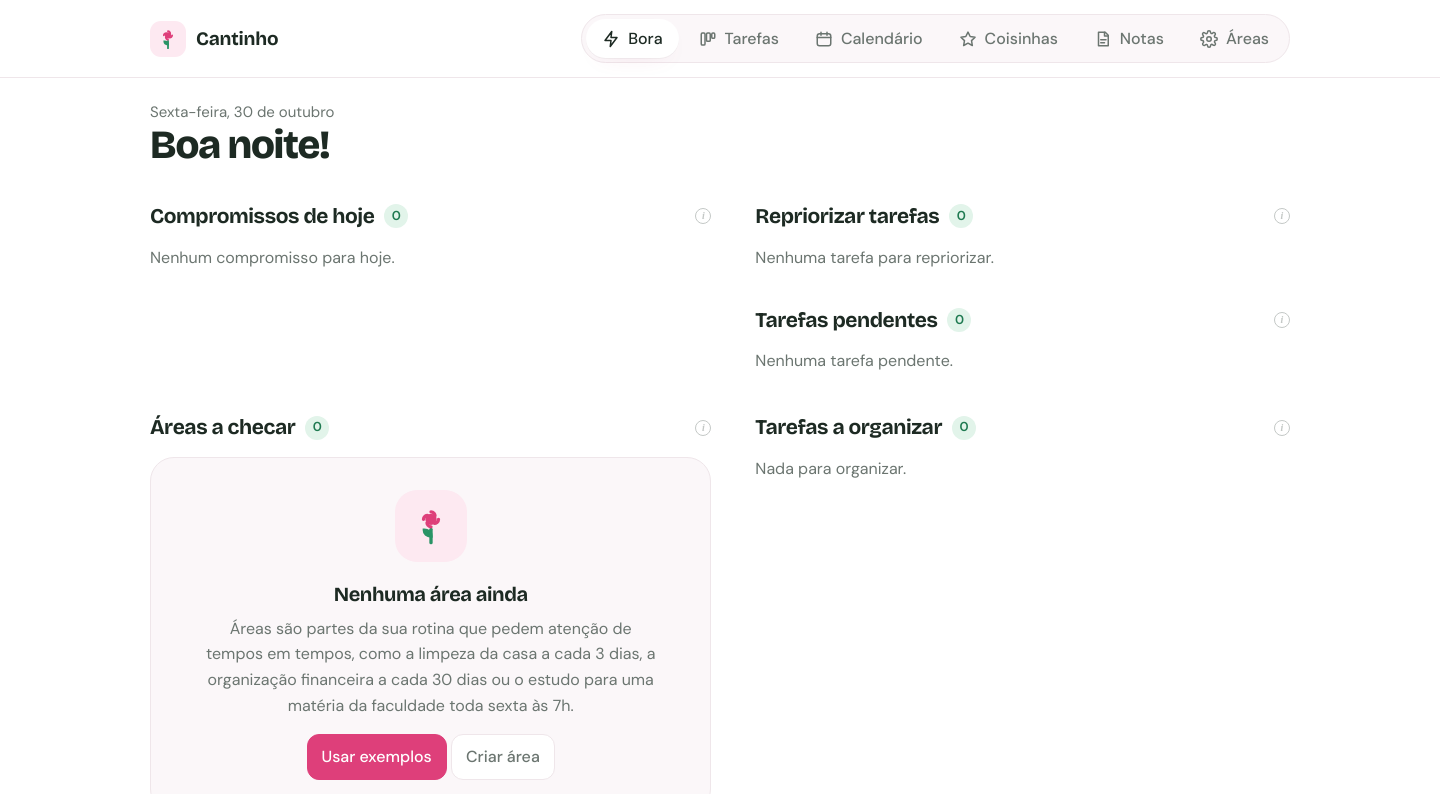
Test: Calendário › cria compromisso, valida campos e mostra na lista do dia
The width and height of the screenshot is (1440, 794).
Click the tab "Calendário": (869, 39) top-left (799, 19), bottom-right (939, 58)
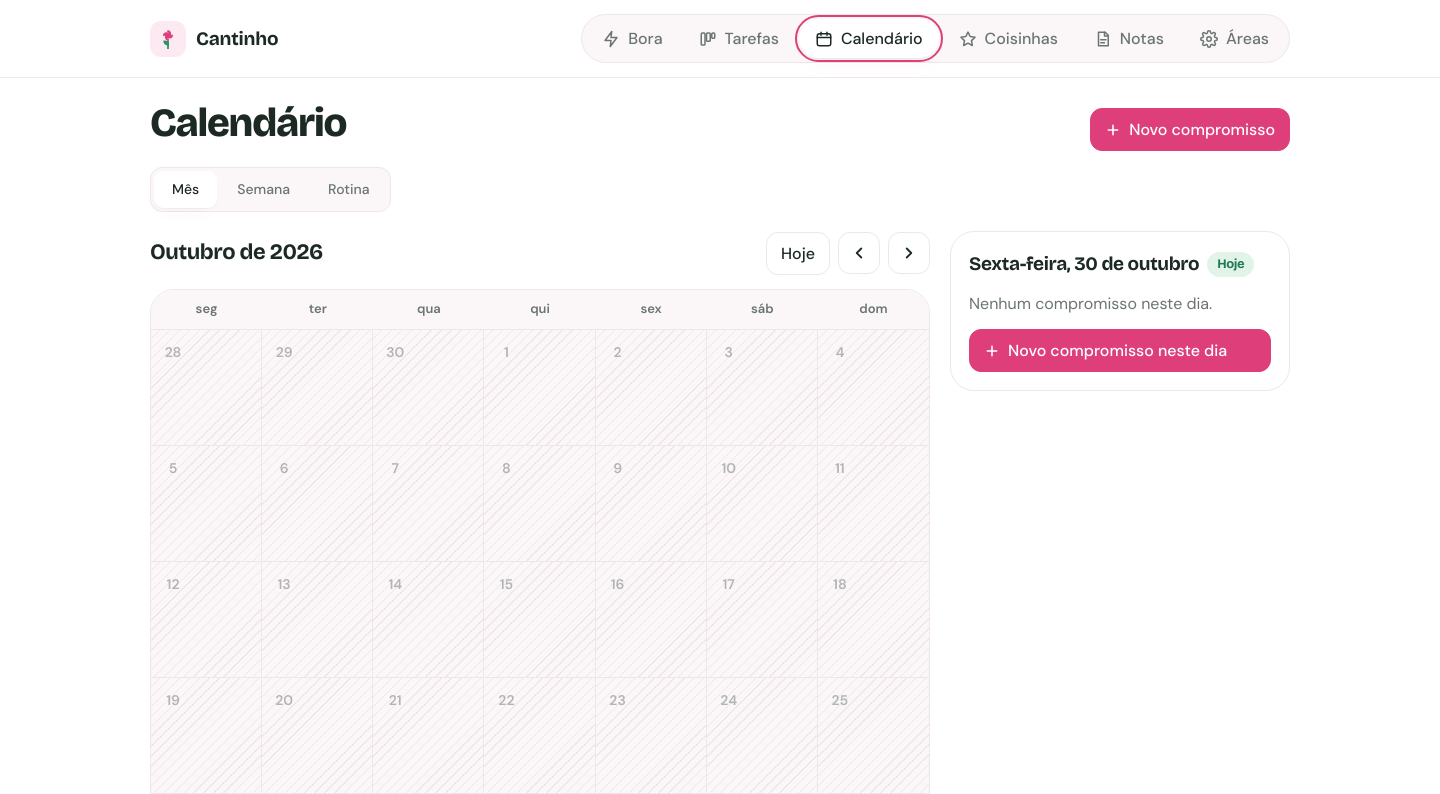
Expected: the text "Nenhum compromisso neste dia." is shown, top-left (969, 293), bottom-right (1212, 314)
Click the button "Novo compromisso": (1190, 130) top-left (1090, 108), bottom-right (1290, 151)
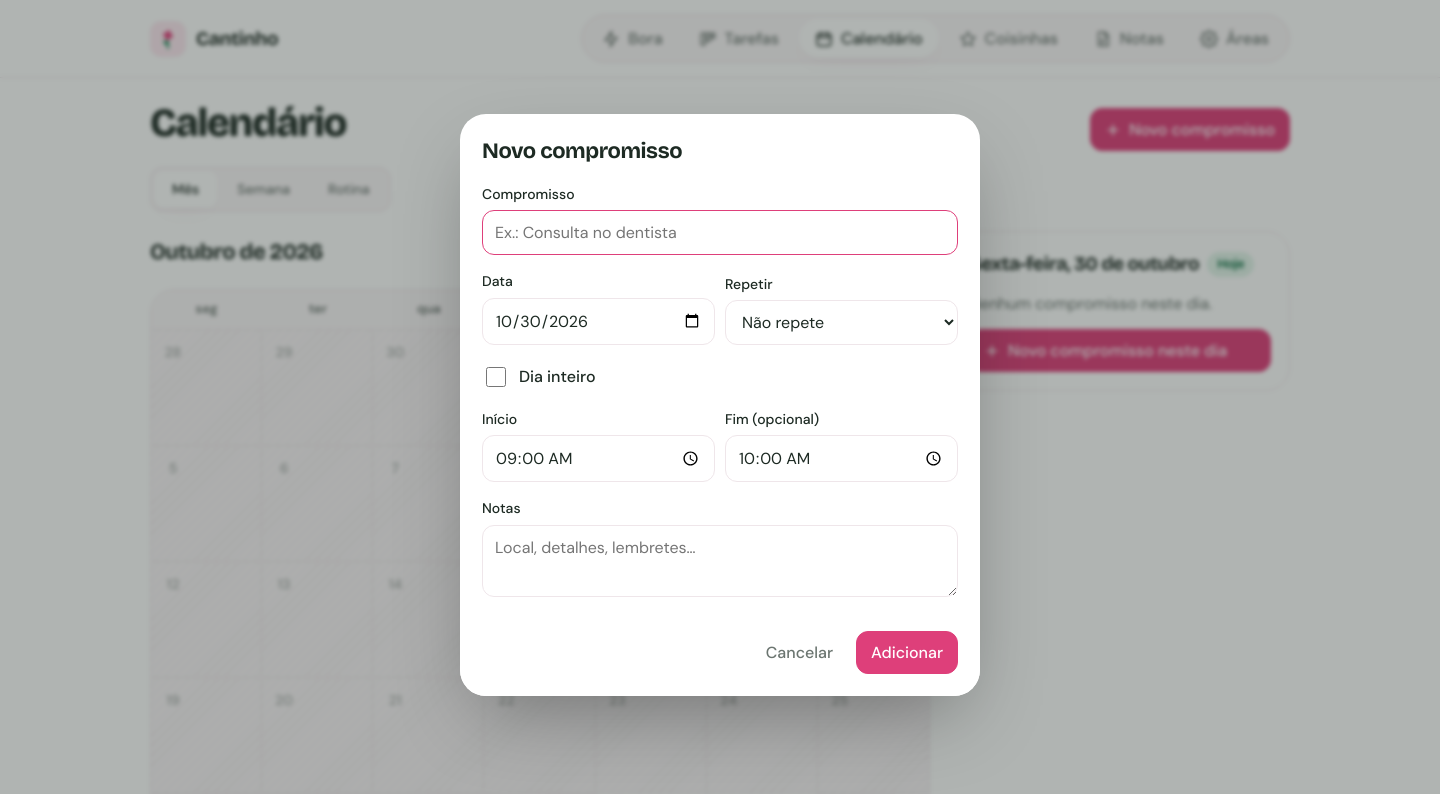
Click the button "Adicionar": (907, 652) top-left (856, 631), bottom-right (958, 674)
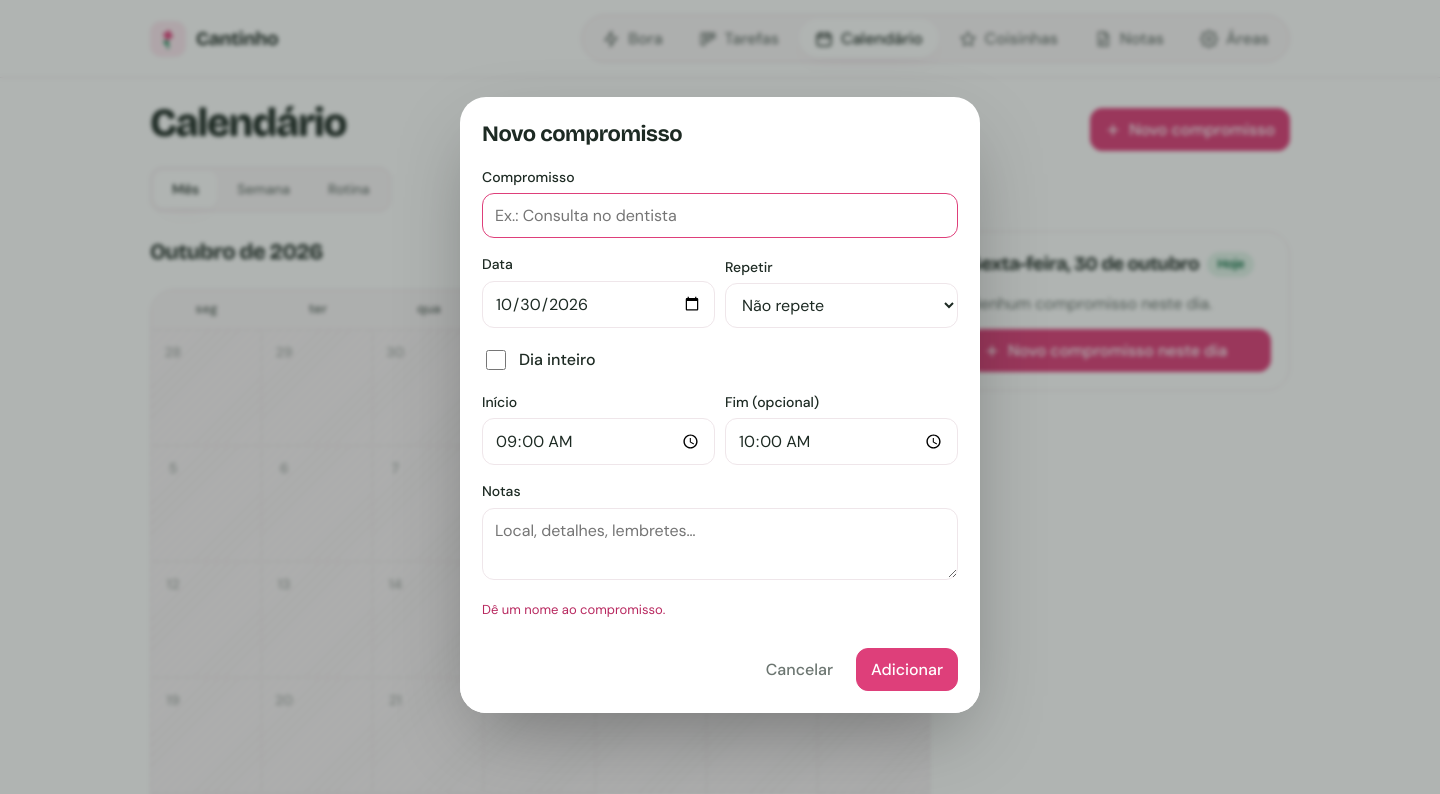
Expected: the text "Dê um nome ao compromisso." is shown, top-left (482, 601), bottom-right (665, 618)
In the field labelled "Compromisso": (720, 215) top-left (482, 193), bottom-right (958, 238), type "Reunião"
Replace the text in the time field labelled "Fim (opcional)" with "08:00": (842, 441) top-left (725, 418), bottom-right (958, 465)
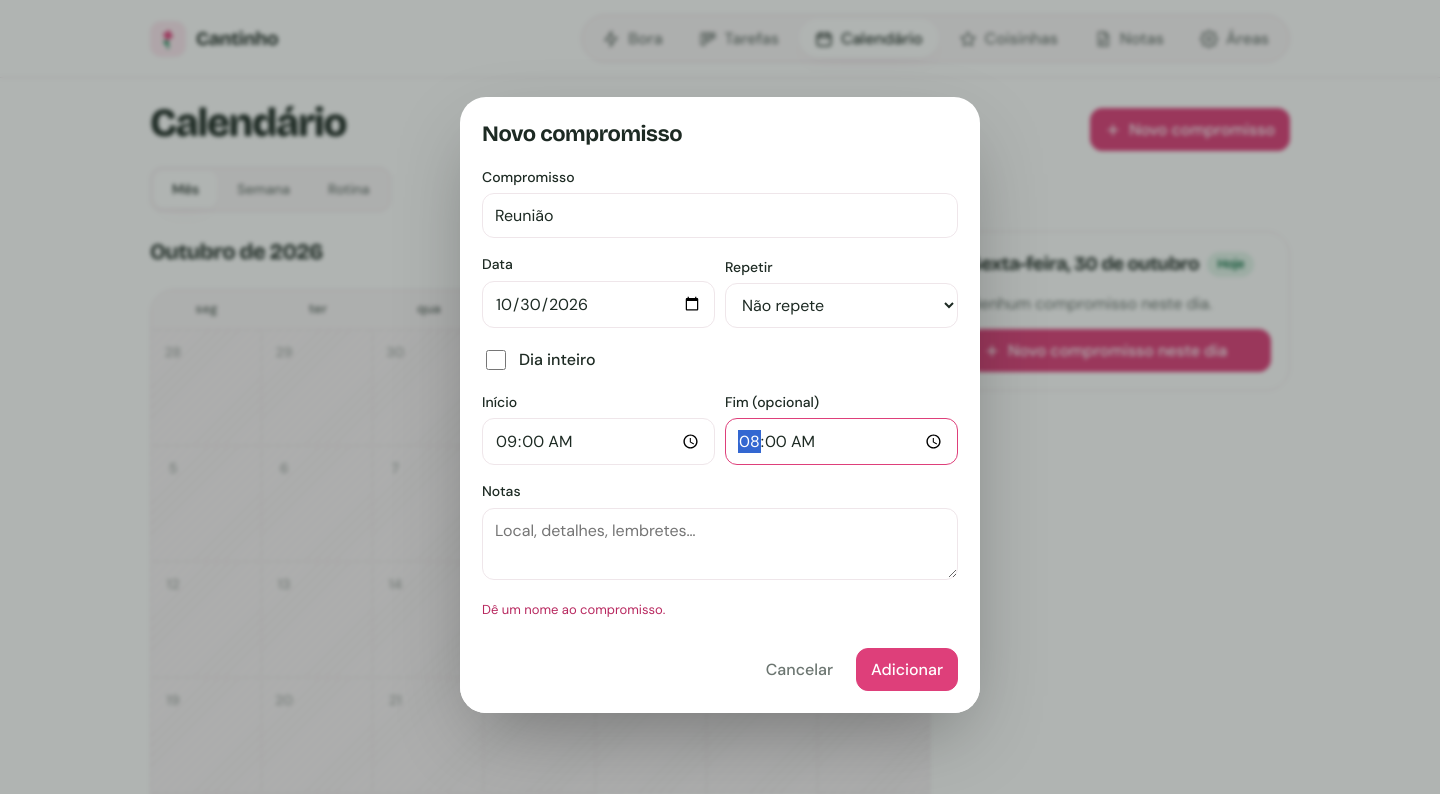
Click the button "Adicionar": (907, 670) top-left (856, 648), bottom-right (958, 691)
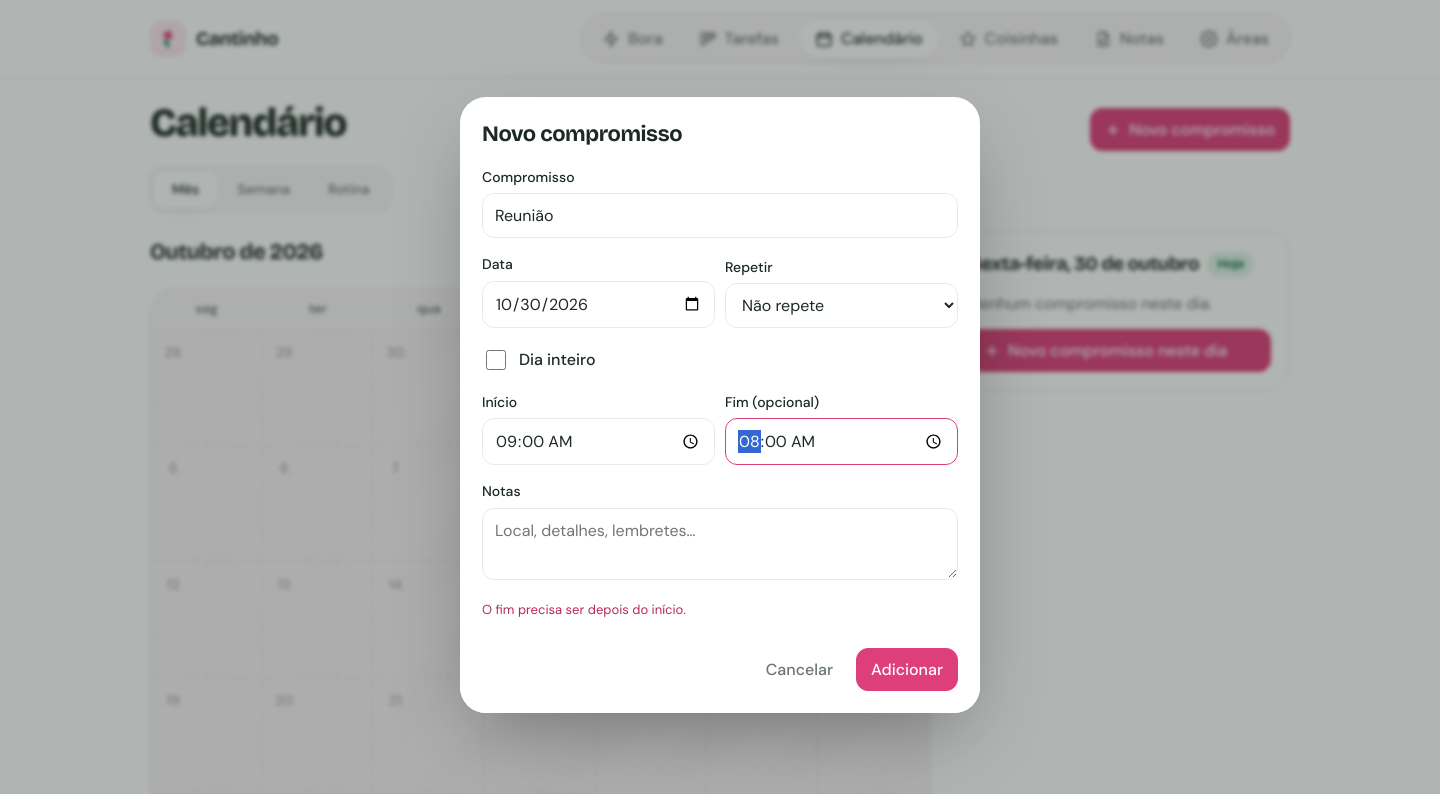
Expected: the text "O fim precisa ser depois do início." is shown, top-left (482, 601), bottom-right (686, 618)
Replace the text in the time field labelled "Fim (opcional)" with "10:30": (842, 441) top-left (725, 418), bottom-right (958, 465)
Click the button "Adicionar": (907, 670) top-left (856, 648), bottom-right (958, 691)
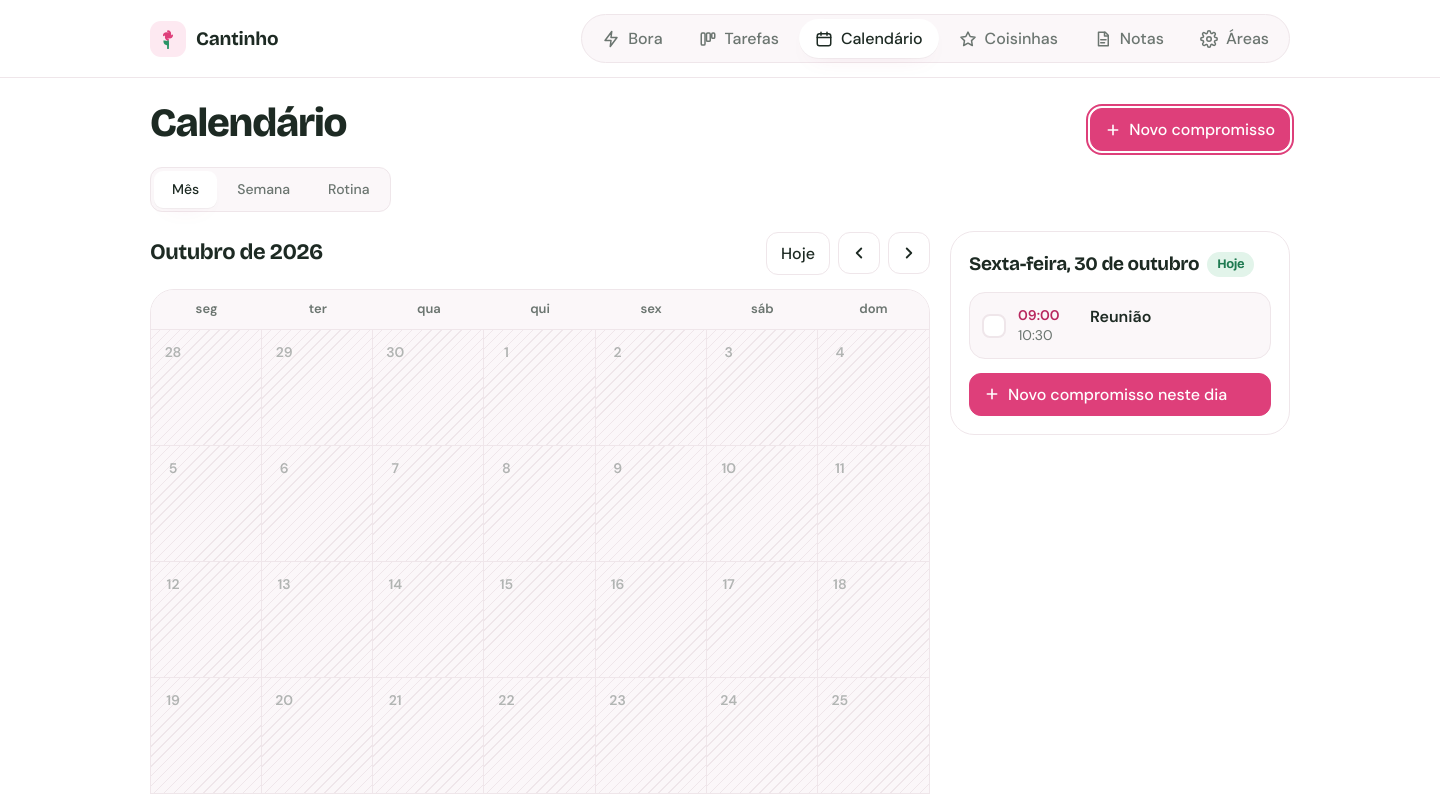
Expected: the text "Hoje" is shown, top-left (1207, 252), bottom-right (1254, 276)
Expected: the text "Reunião" is shown, top-left (1090, 305), bottom-right (1151, 328)
